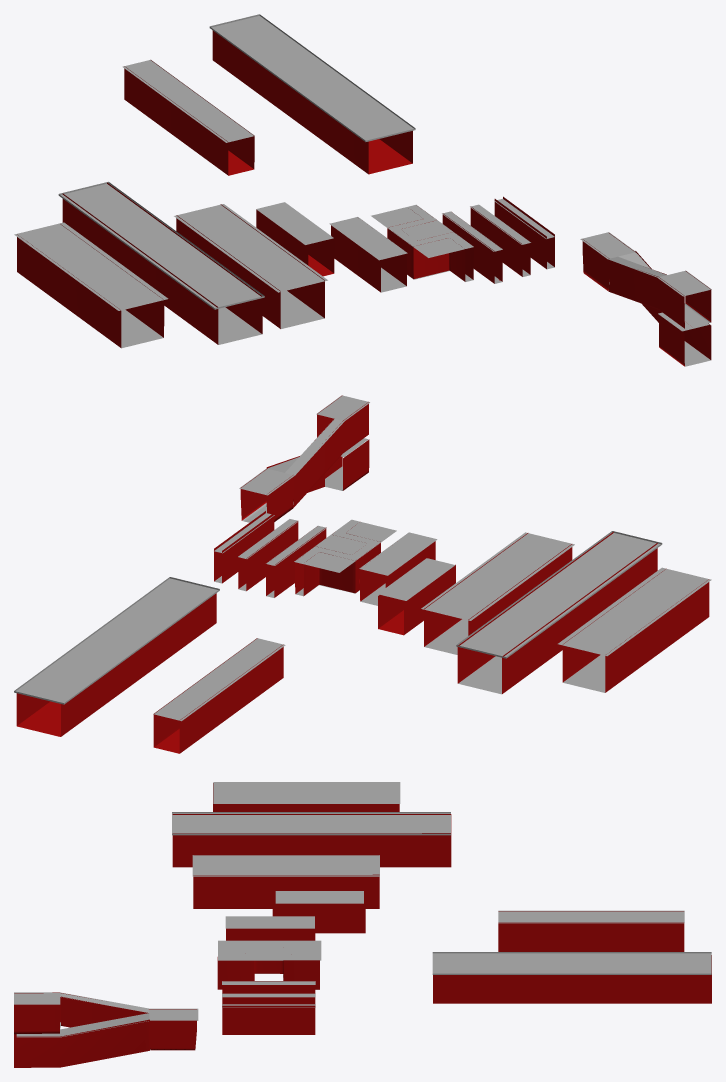
Rendered from Chunks_mesh_custom.fbx.
3 renders of one model, top to bottom at view 1: azimuth 30°, elevation 25°; view 2: azimuth 150°, elevation 25°; view 3: azimuth 270°, elevation 25°, orthographic. The views are drawn at different scales.
Parts seen in each view (by area): view 1: Middle_Esquive_5L_1_Mesh2, pCube5, polySurface11, polySurface10, polySurface12, polySurface2, polySurface5, polySurface4, polySurface3, polySurface7, polySurface8, polySurface6; view 2: Middle_Esquive_5L_1_Mesh2, pCube5, polySurface11, polySurface10, polySurface12, polySurface2, polySurface5, polySurface3, polySurface4, polySurface7, polySurface8, polySurface6; view 3: Middle_Esquive_5L_1_Mesh2, pCube5, polySurface12, polySurface10, polySurface2, polySurface11, polySurface5, polySurface3, polySurface8, polySurface4, polySurface6, polySurface7.
Boxes of the visible parts, x1,y1,x2,y2 form: Middle_Esquive_5L_1_Mesh2: (209, 14, 415, 174); pCube5: (58, 181, 264, 344); polySurface11: (14, 222, 168, 348); polySurface10: (174, 204, 327, 328); polySurface12: (580, 232, 711, 366); polySurface2: (122, 59, 254, 175); polySurface5: (371, 204, 473, 281); polySurface4: (329, 217, 407, 292); polySurface3: (256, 202, 334, 276); polySurface7: (470, 204, 530, 276); polySurface8: (494, 196, 554, 269); polySurface6: (442, 211, 502, 283); Middle_Esquive_5L_1_Mesh2: (14, 577, 219, 736); pCube5: (456, 531, 662, 694); polySurface11: (558, 567, 711, 692); polySurface10: (421, 532, 574, 654); polySurface12: (239, 395, 369, 522); polySurface2: (153, 638, 285, 753); polySurface5: (294, 519, 396, 596); polySurface3: (378, 558, 455, 635); polySurface4: (359, 532, 437, 605); polySurface7: (238, 519, 298, 591); polySurface8: (214, 511, 274, 583); polySurface6: (266, 525, 326, 597); Middle_Esquive_5L_1_Mesh2: (432, 952, 711, 1003); pCube5: (172, 812, 451, 867); polySurface12: (14, 992, 198, 1067); polySurface10: (192, 855, 379, 908); polySurface2: (498, 910, 684, 951); polySurface11: (213, 782, 400, 811); polySurface5: (217, 940, 321, 989); polySurface3: (272, 891, 365, 933); polySurface8: (222, 1002, 315, 1034); polySurface4: (225, 916, 315, 940); polySurface6: (222, 981, 315, 993); polySurface7: (222, 993, 315, 1001).
Size of the model in its own units: 320 by 55.3 by 449.
